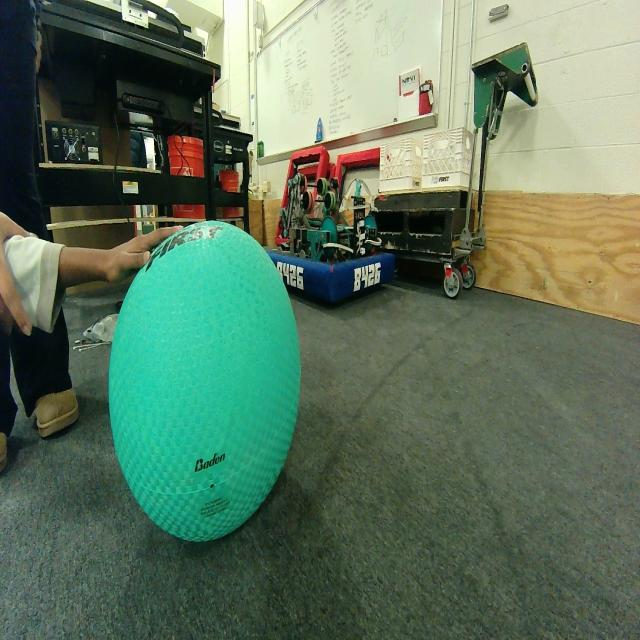algae: (109, 220, 300, 542)
